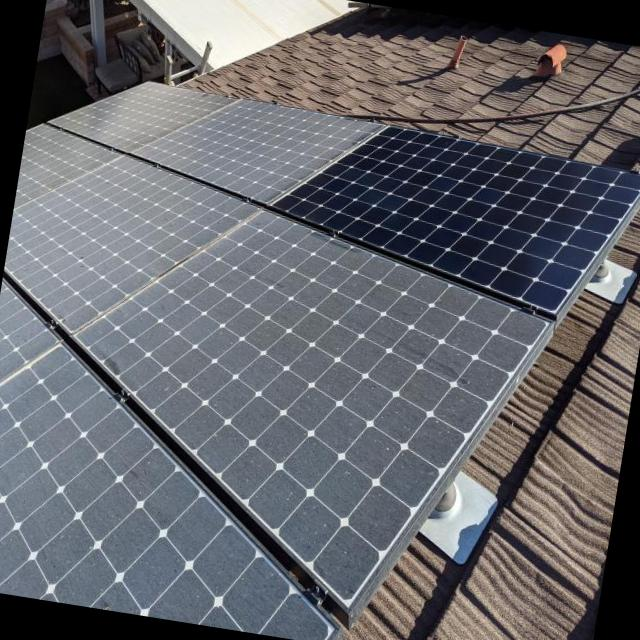faulty: (0, 78, 543, 640)
no faulty: (277, 124, 640, 317)
